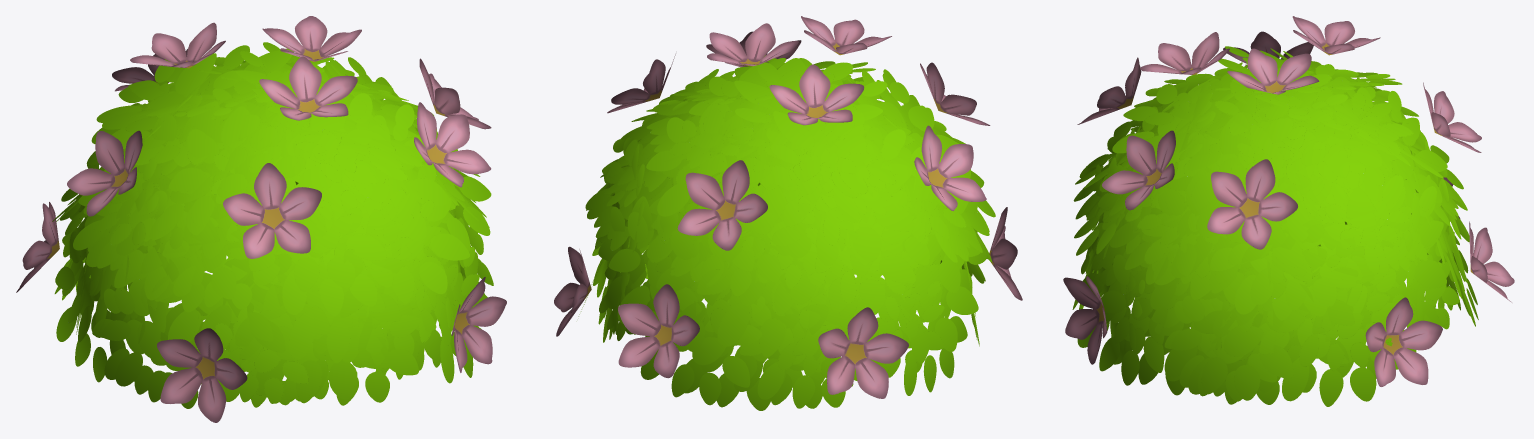
Rendered from bush_flowers.gltf.
The picture shows the model from 3 angles, left to right: view 1: azimuth 30°, elevation 25°; view 2: azimuth 150°, elevation 25°; view 3: azimuth 270°, elevation 25°; orthographic projection. The views are drawn at different scales.
Parts seen in each view (by area): view 1: Bush_Flowers; view 2: Bush_Flowers; view 3: Bush_Flowers.
Boxes of the visible parts, x1,y1,x2,y2 form: Bush_Flowers: [16, 16, 506, 422]; Bush_Flowers: [554, 16, 1022, 410]; Bush_Flowers: [1063, 16, 1514, 406].
Bounding box in the file's own units: 1.09 × 0.7585 × 1.11.
Materials: 2 (2 with a texture image).
